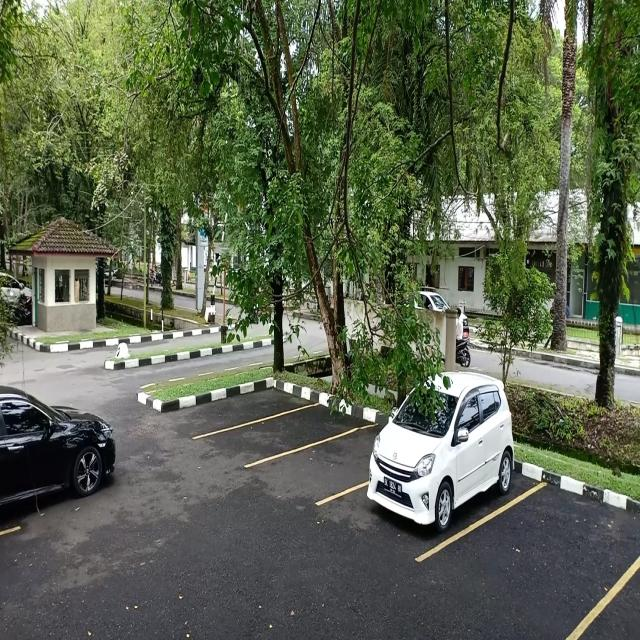empty: (472, 477, 638, 640), (282, 430, 370, 509), (230, 401, 323, 464)
occupied: (357, 408, 504, 558)
